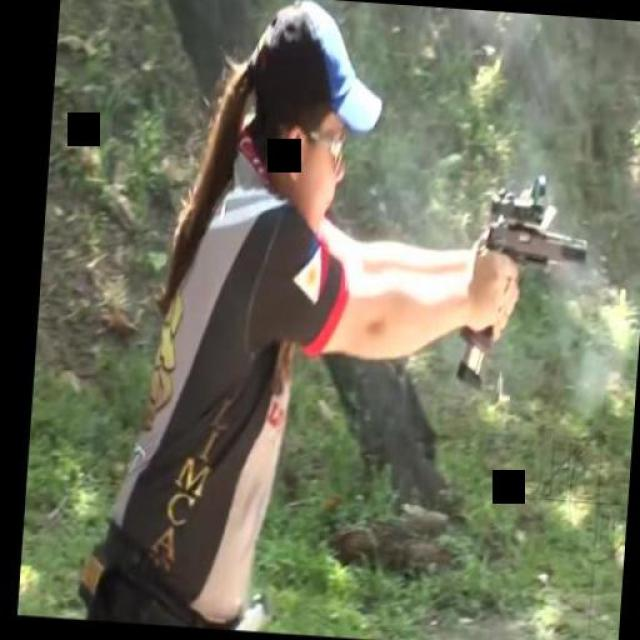gun: (458, 185, 598, 391)
